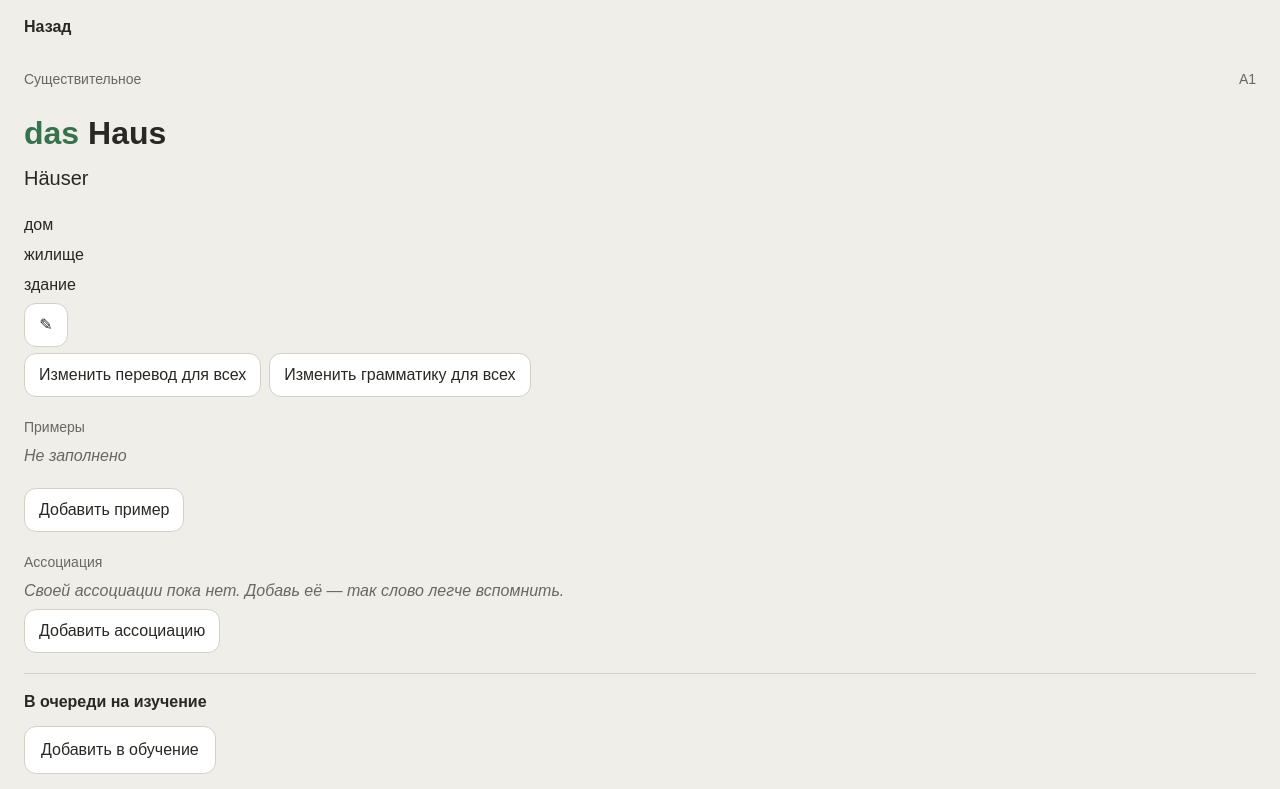
Test: М12 owner common editor in the card host (R12-04…06, R14-01) › W7 grammar for everyone: each allowed field of the type is saved by its own command; examples are not offered
Expected: the heading "das Haus" is shown, [24,115,166,151]
Click the button "Изменить грамматику для всех": click(400, 375) [269,353,531,397]
(page scrolled)
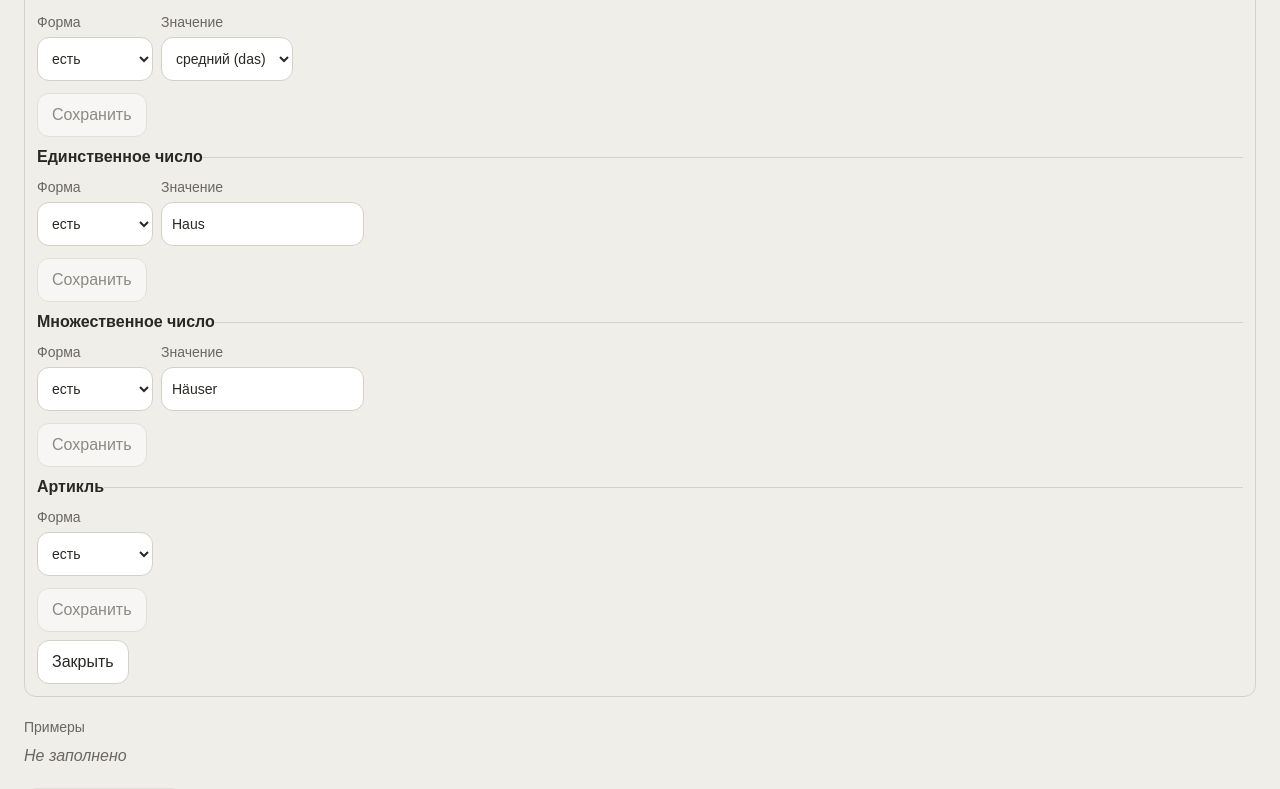
Replace the text in the field labelled "Значение" below "Множественное число" with "Häuschen": (262, 389) [161,367,364,411]
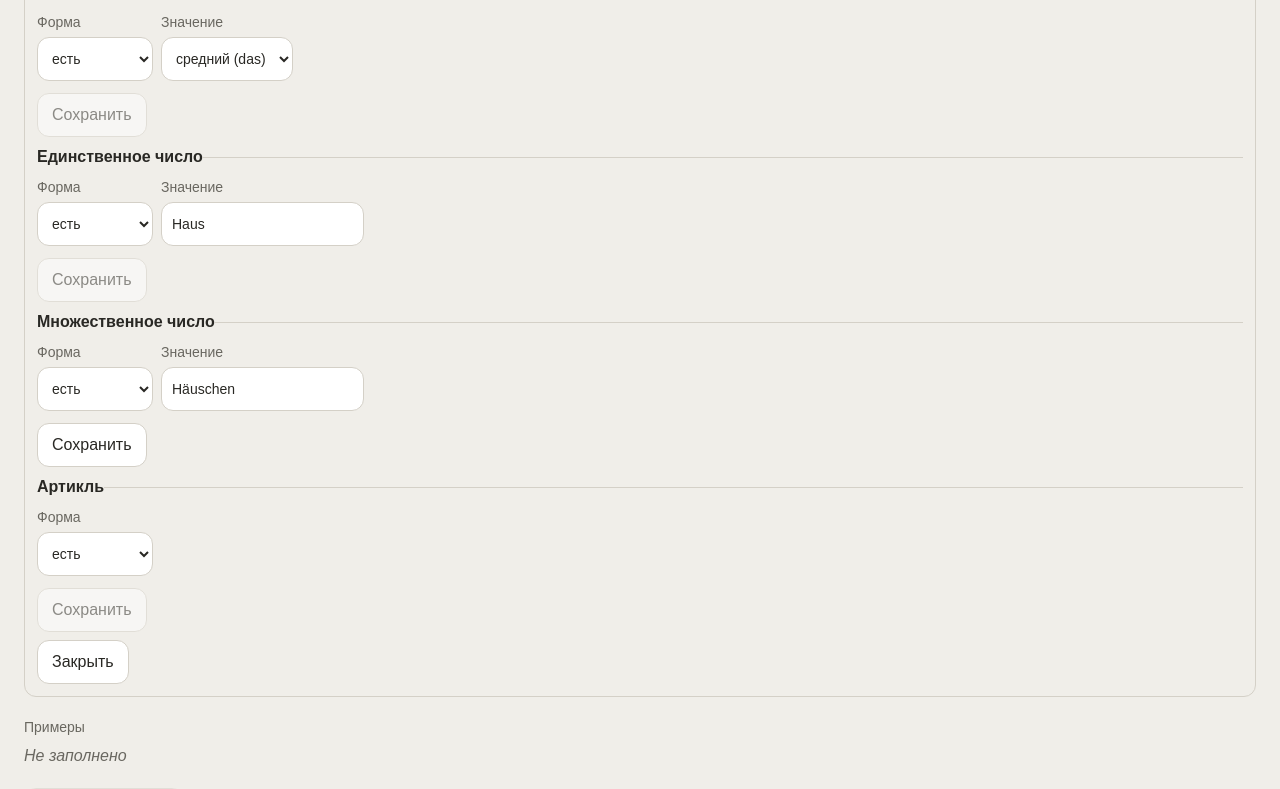
Click the button with aria-label "Сохранить: Множественное число": click(92, 445) [37,423,146,467]
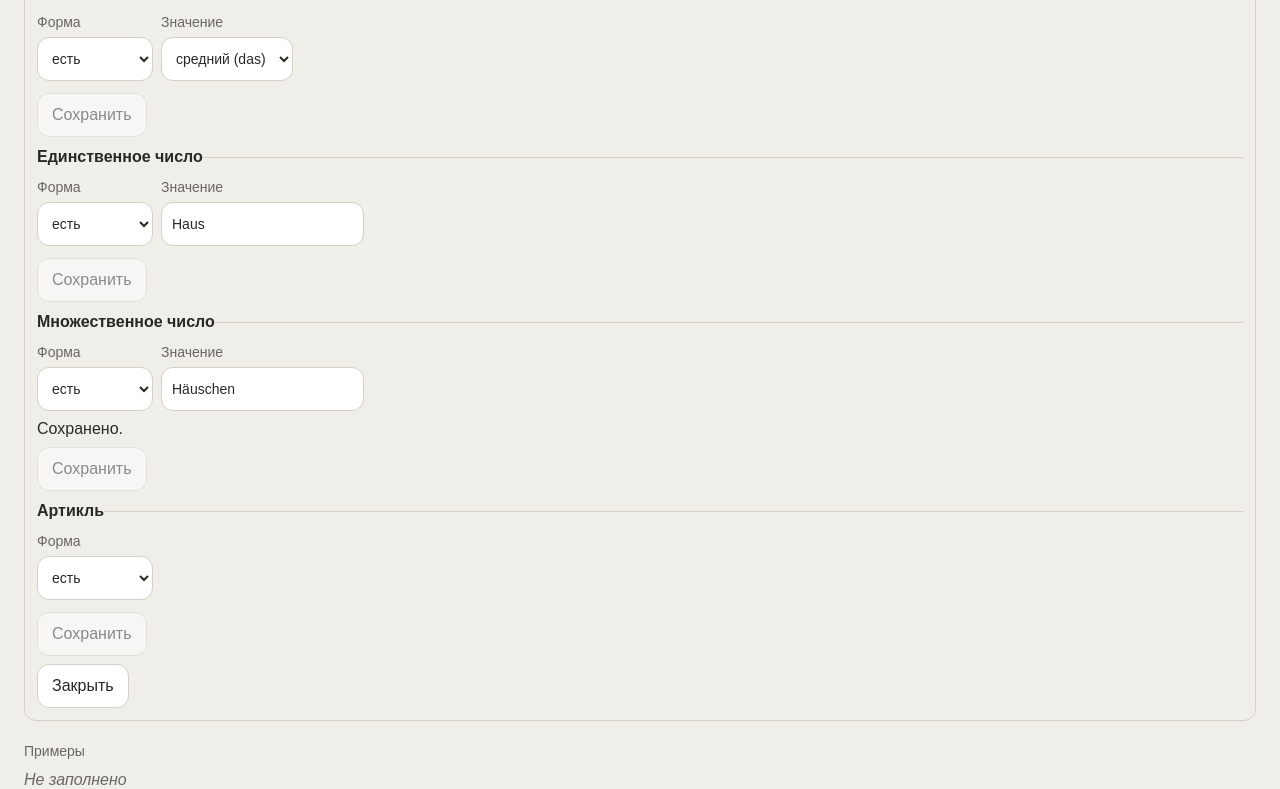
Result: the text "Сохранено." is shown at [37,420,123,437]
Select "мужской (der)" in the dropdown labelled "Значение": (227, 59) [161,37,293,81]
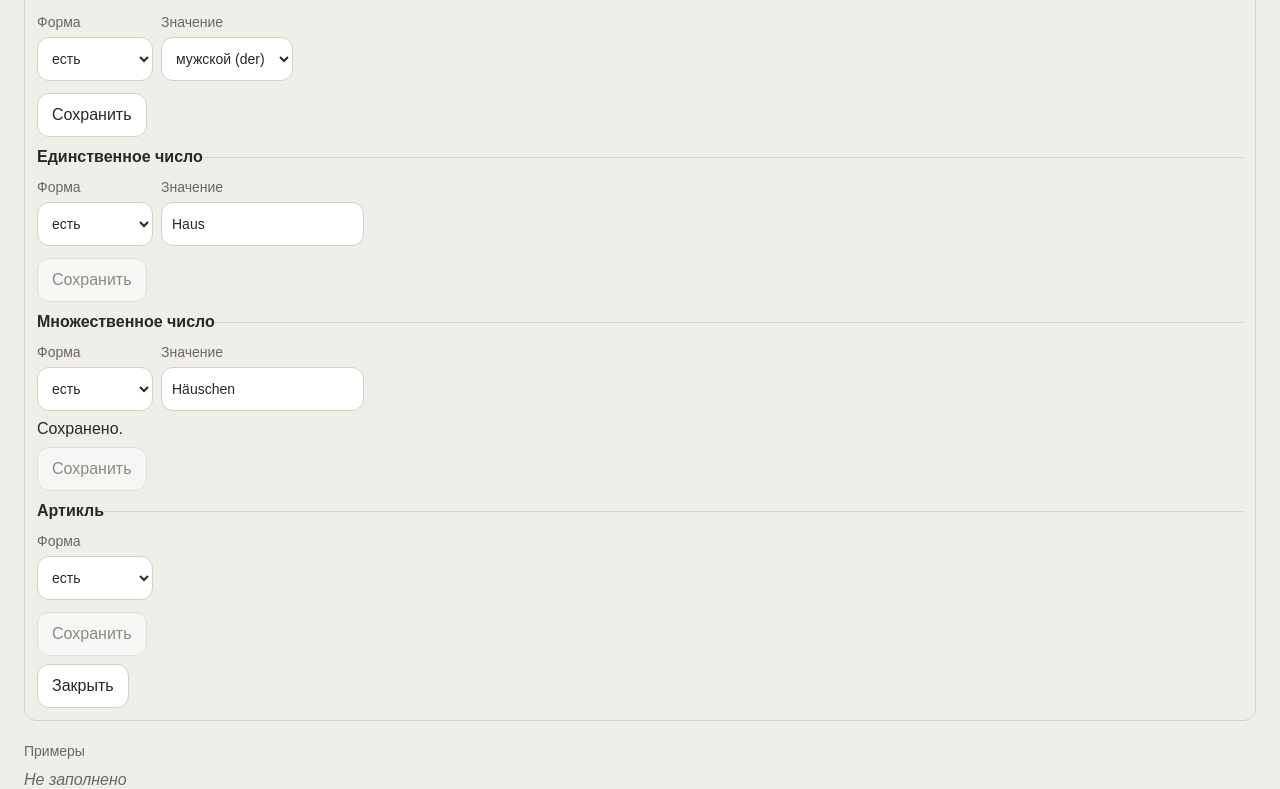
Click the button with aria-label "Сохранить: Род": click(92, 115) [37,93,146,137]
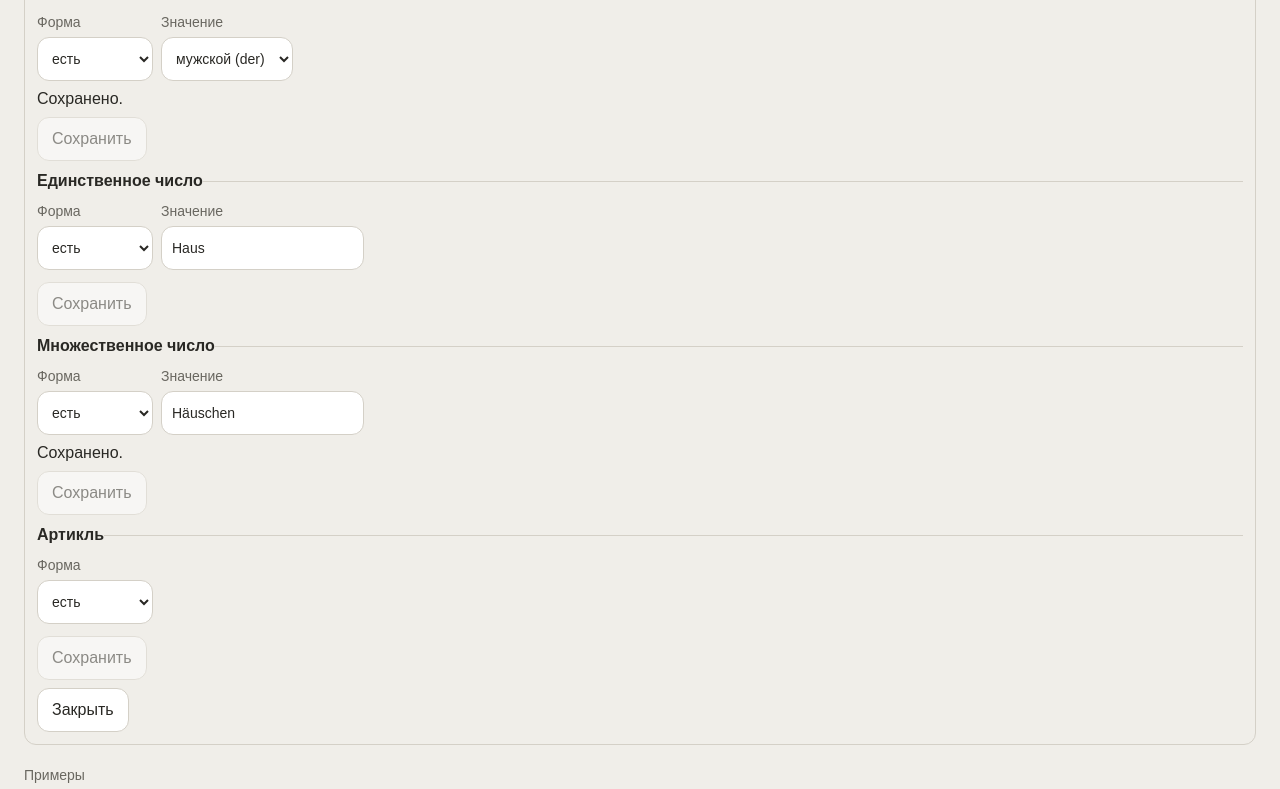
Result: the text "Сохранено." below "Род" is shown at [37,90,123,107]
